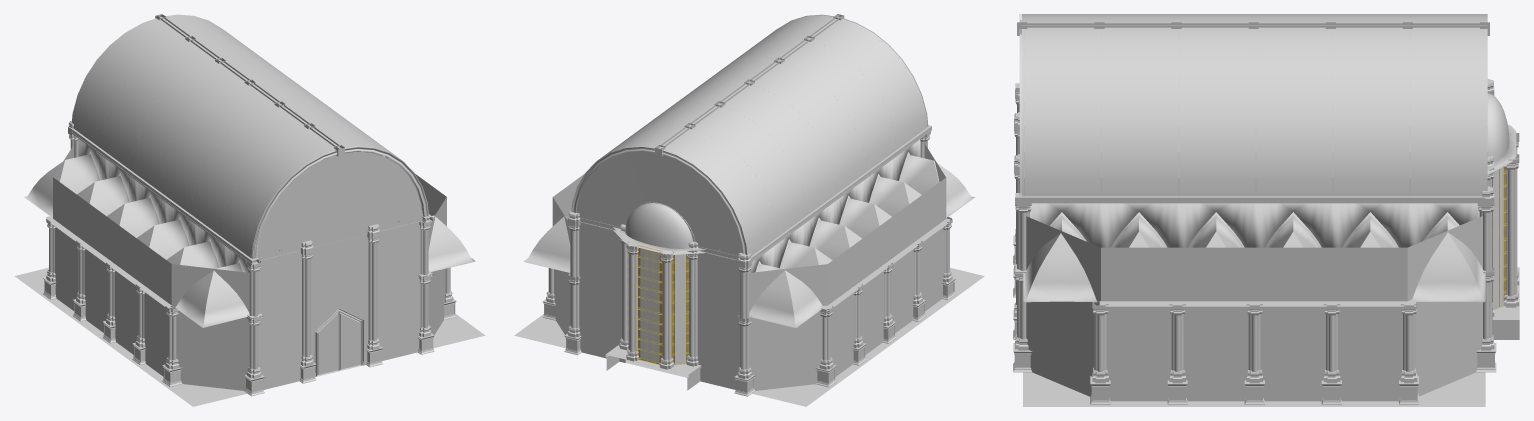
The model's file is ThroneRoom.fbx.
The picture shows the model from 3 angles, left to right: view 1: azimuth 30°, elevation 25°; view 2: azimuth 150°, elevation 25°; view 3: azimuth 270°, elevation 25°; orthographic projection. The views are drawn at different scales.
Parts seen in each view (by area): view 1: B_Mat; view 2: B_Mat, D_Window_Glass, C_Metal; view 3: B_Mat, D_Window_Glass, C_Metal.
Boxes of the visible parts, x1,y1,x2,y2 form: B_Mat: [14, 14, 485, 406]; B_Mat: [514, 14, 984, 406]; D_Window_Glass: [628, 248, 685, 364]; C_Metal: [599, 220, 719, 364]; B_Mat: [1013, 14, 1519, 406]; D_Window_Glass: [1493, 167, 1503, 309]; C_Metal: [1492, 166, 1507, 309].
Size of the model in its own units: 1701 by 1245 by 1970.
4 materials, 2 textured.
